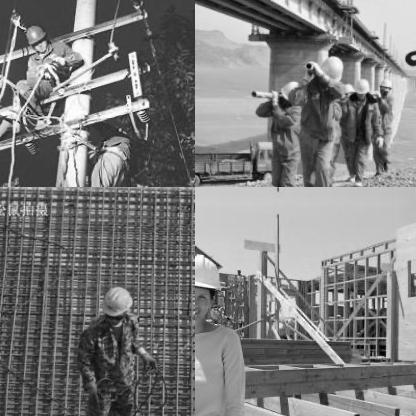Helmet: (195, 253, 226, 326), (101, 282, 135, 324), (316, 52, 346, 84), (24, 22, 50, 50), (276, 78, 302, 106), (350, 72, 368, 98), (376, 74, 394, 96)
